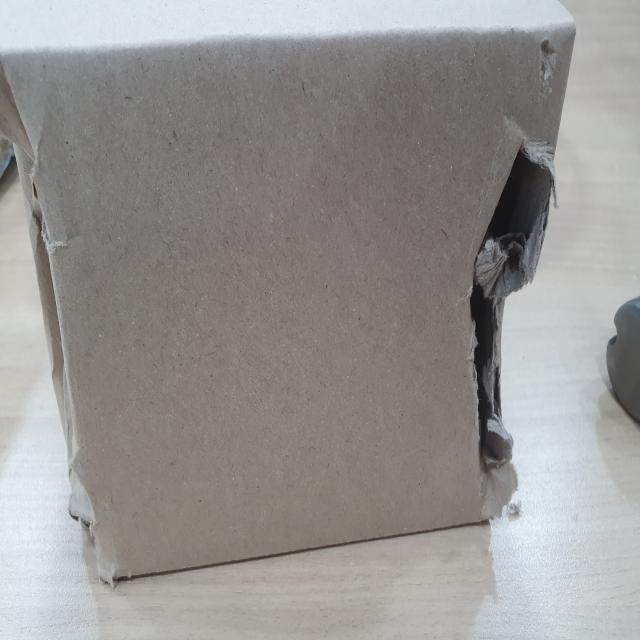hole: (468, 130, 549, 468)
